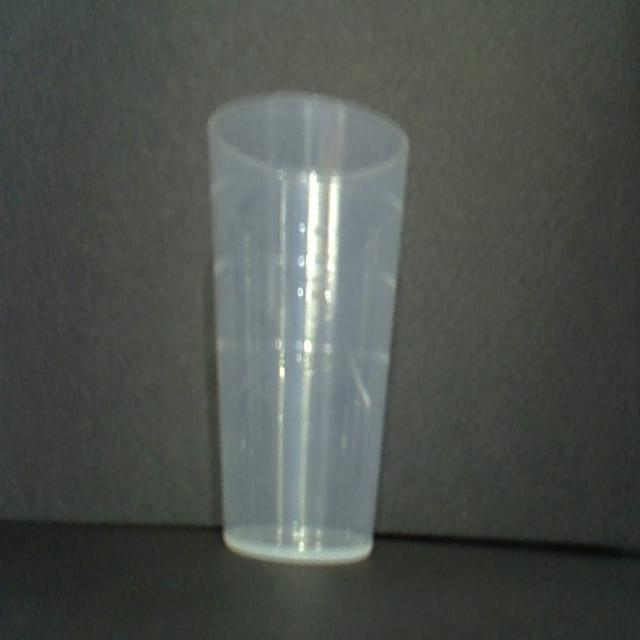cup: (201, 89, 410, 569)
